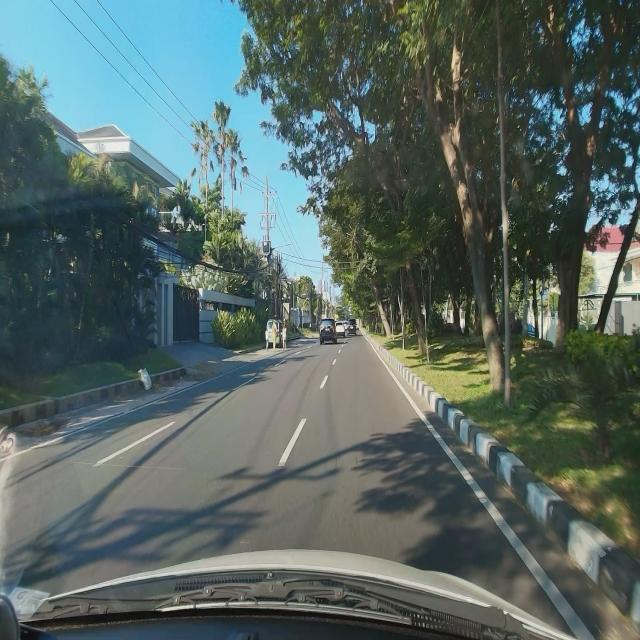car: (319, 317, 338, 346)
